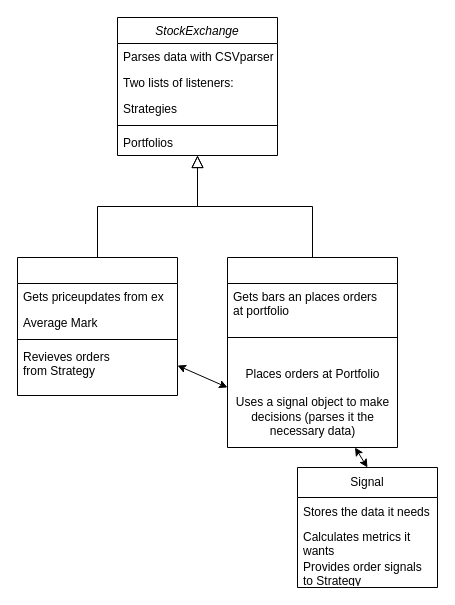
Image size: 455x605. Some labels were removed from this diagram. Here are the shapes that lost their labels. From the top down, the box of each, then its label:
(16, 256, 178, 396): Portfolio
(226, 256, 398, 448): Strategy
